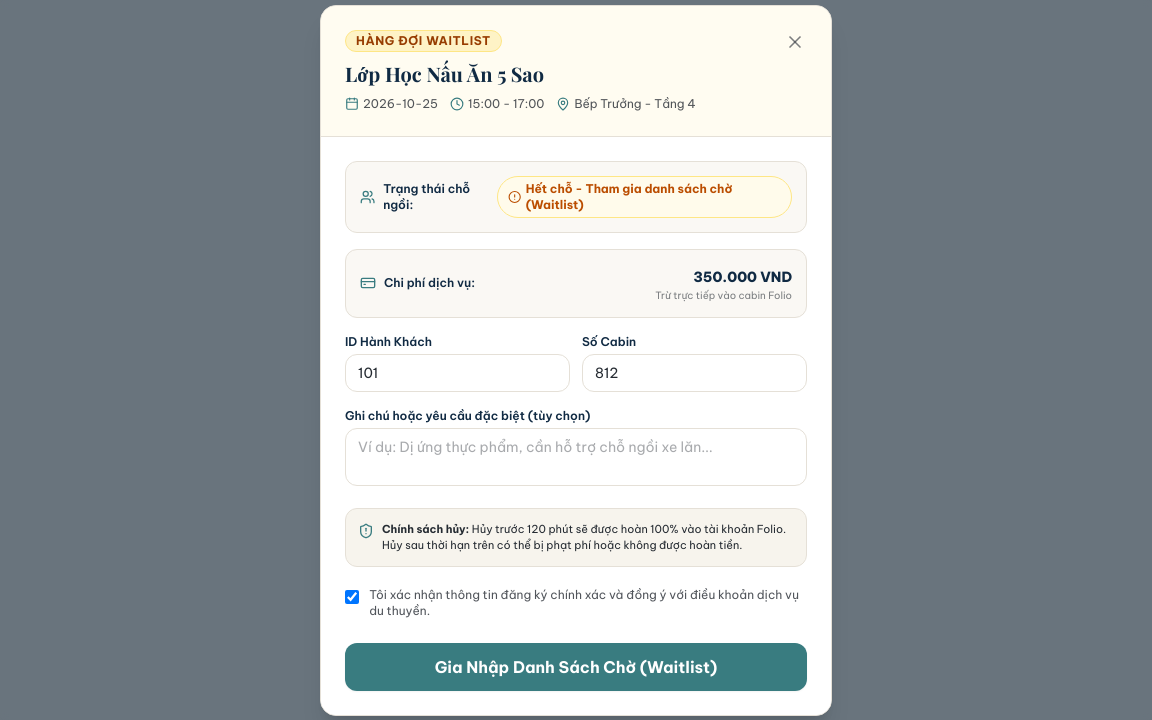
Scenario: ActivityRegistrationModal Component Tests (KAN-372) › đăng ký thành công vào hàng đợi Waitlist khi hết chỗ
The width and height of the screenshot is (1152, 720).
Click the button "Gia Nhập Danh Sách Chờ (Waitlist)" at x=576, y=666, box top-left (345, 642), bottom-right (807, 690)
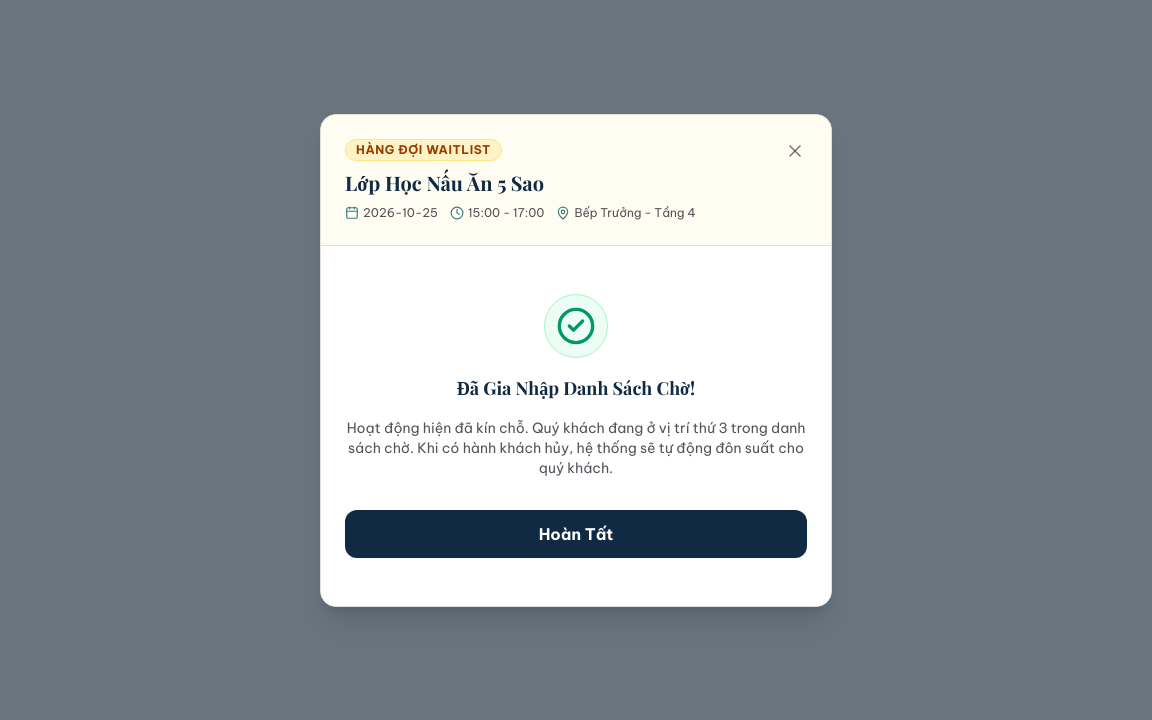
Expected: the heading "Đã Gia Nhập Danh Sách Chờ!" is shown, top-left (457, 376), bottom-right (695, 400)
Expected: the text "Quý khách đang ở vị trí thứ 3 trong danh sách chờ" is shown, top-left (347, 418), bottom-right (805, 476)
